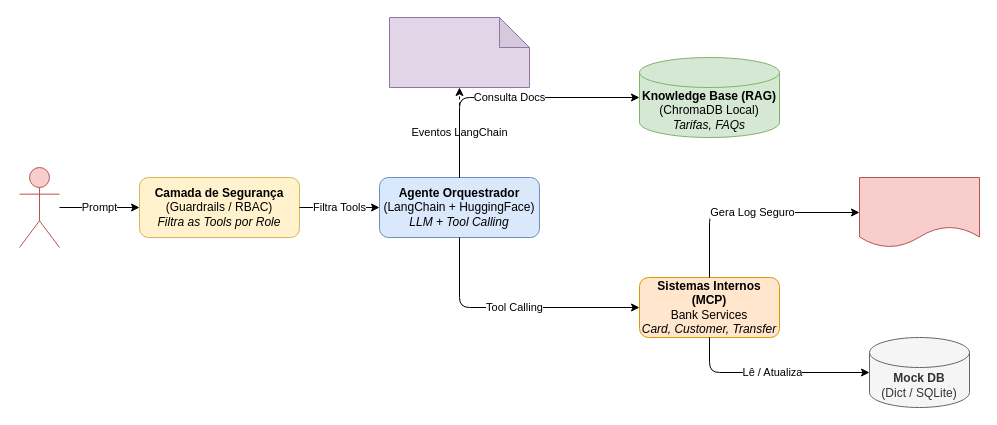
This 997x425 diagram has some shape labels left out. Each missing label, with the box of its shape:
Auditoria (audit.log) Log JSON de Ação Crítica: (858, 176, 980, 248)
Observabilidade (Callbacks) Tempo, Tokens, Prompt: (388, 16, 530, 88)
Usuário: (18, 166, 60, 248)
